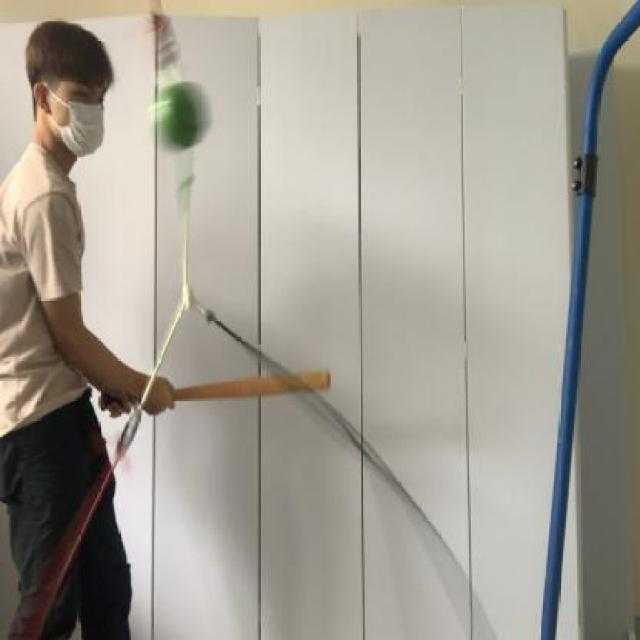baseball: (148, 79, 212, 155)
